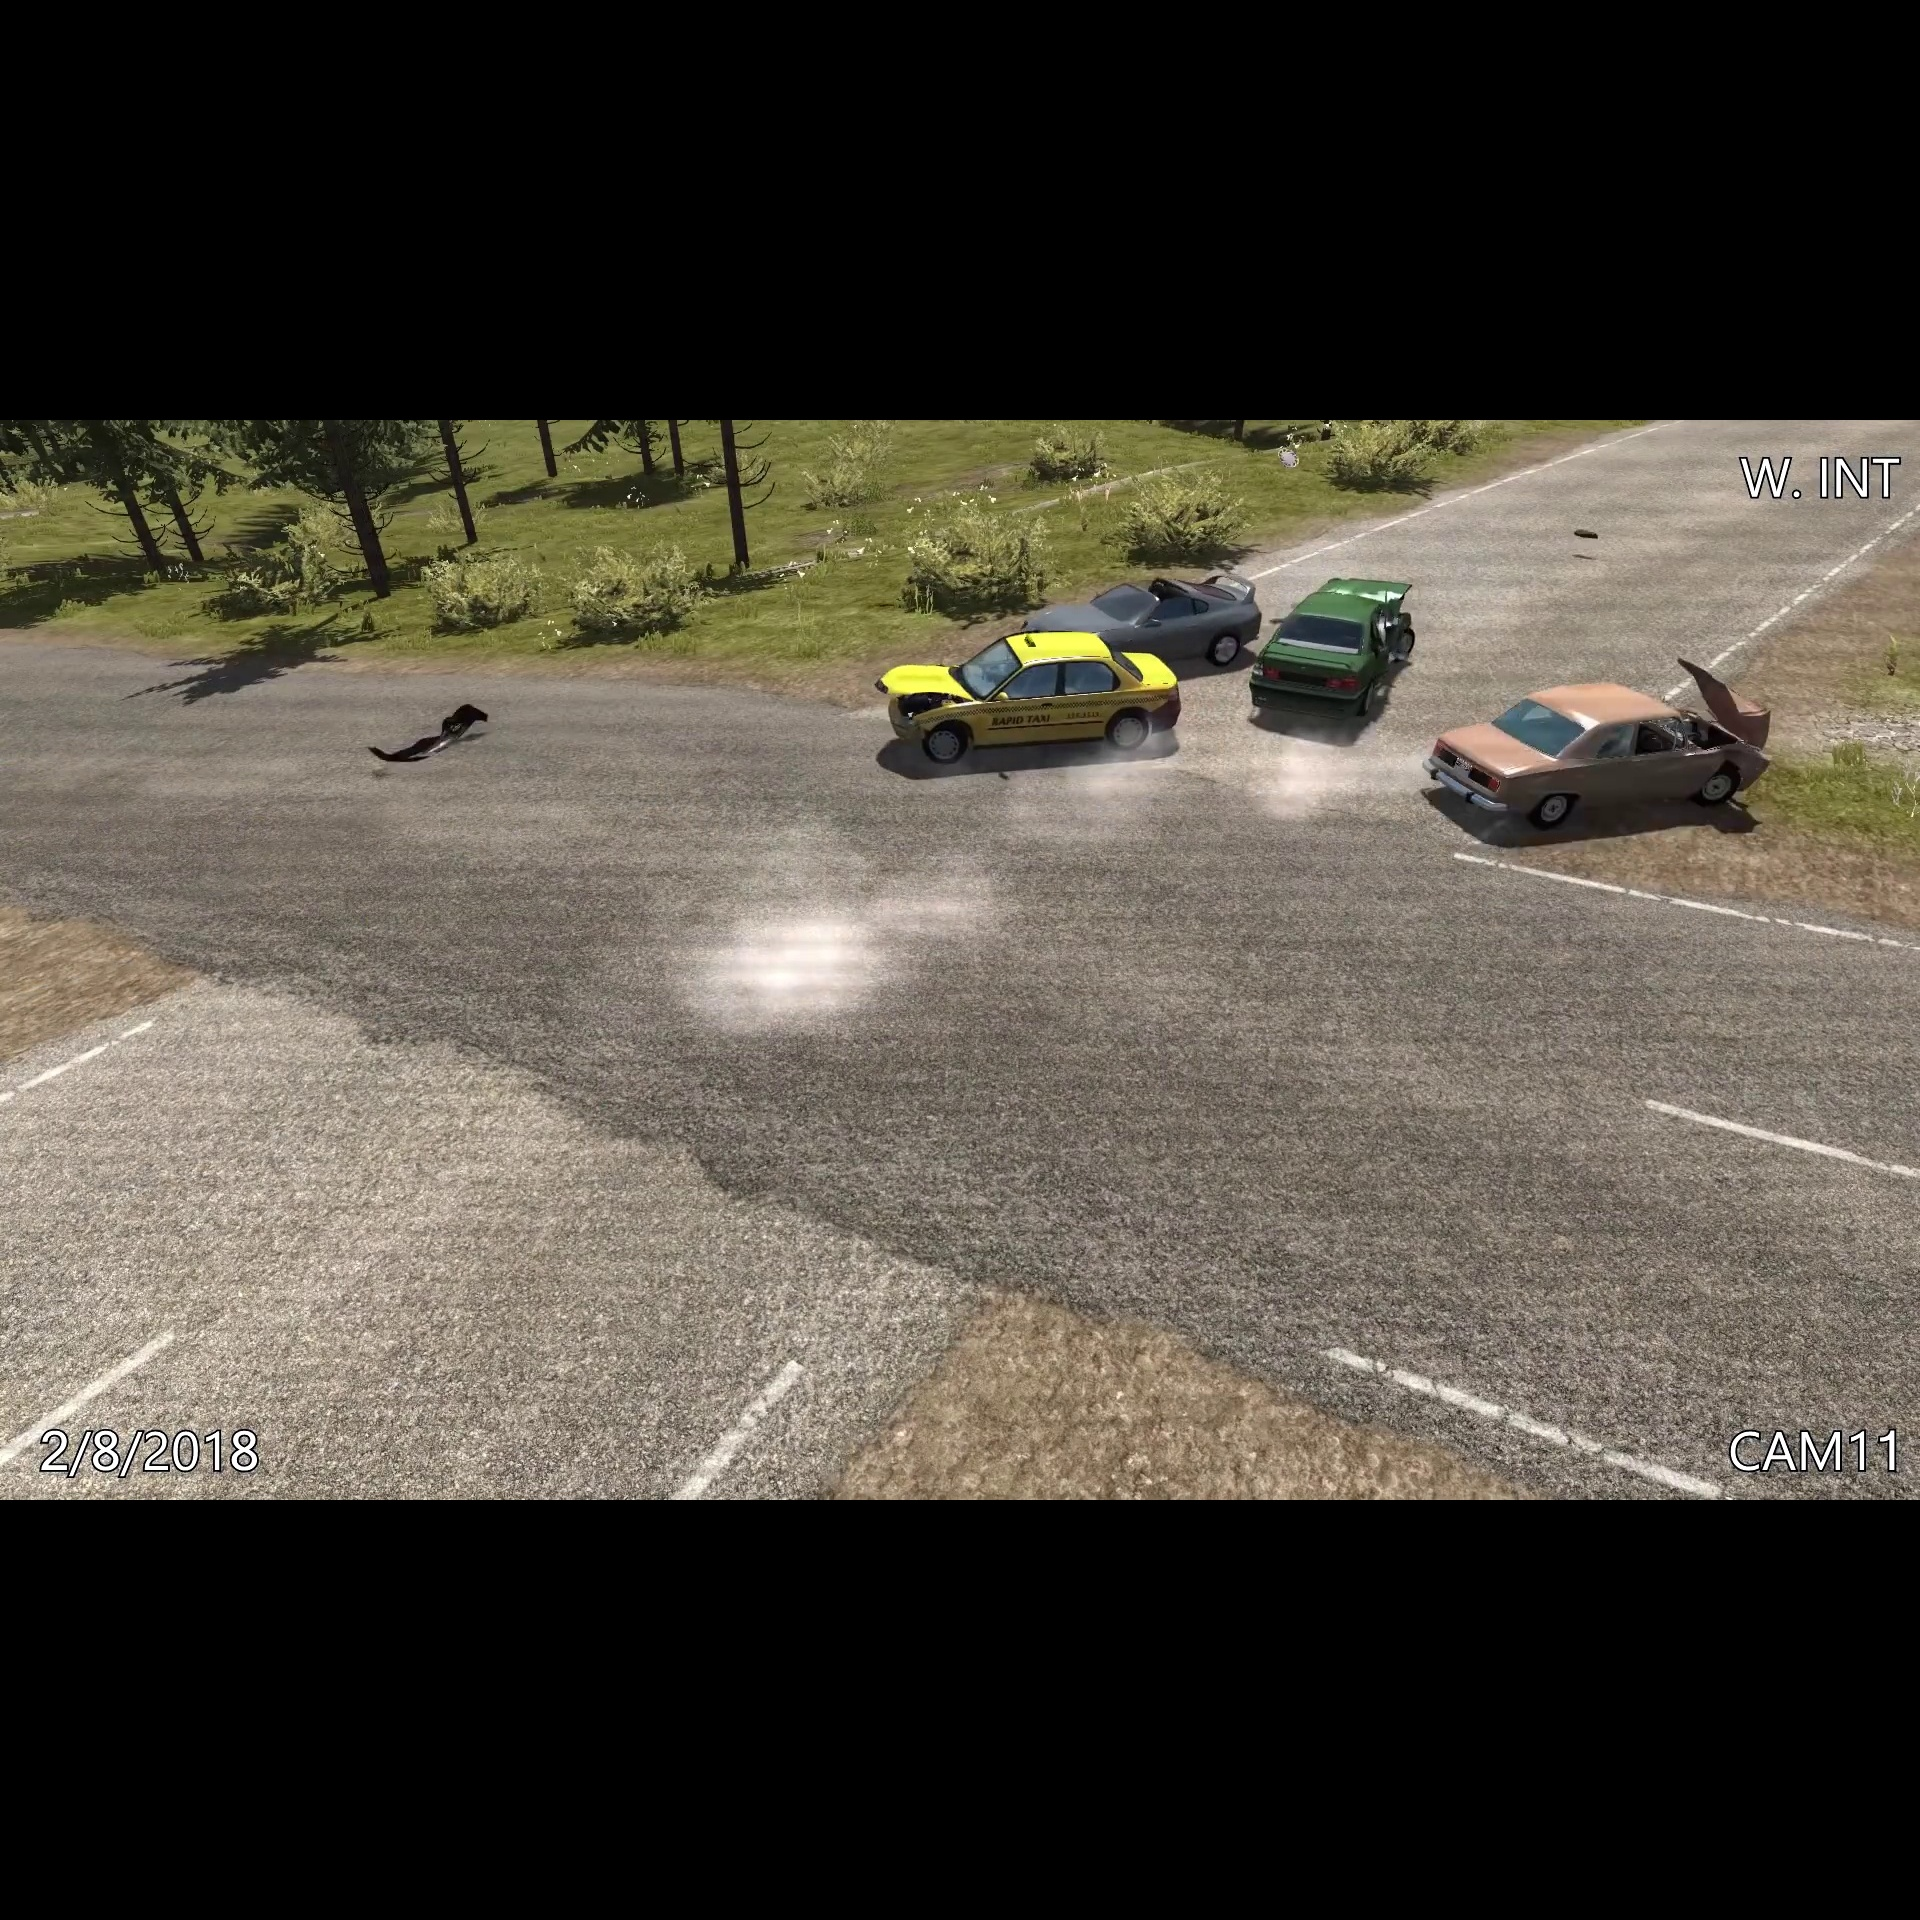vehicle: (1415, 673, 1776, 833), (869, 628, 1187, 772), (1241, 570, 1424, 723), (1020, 559, 1262, 663)
